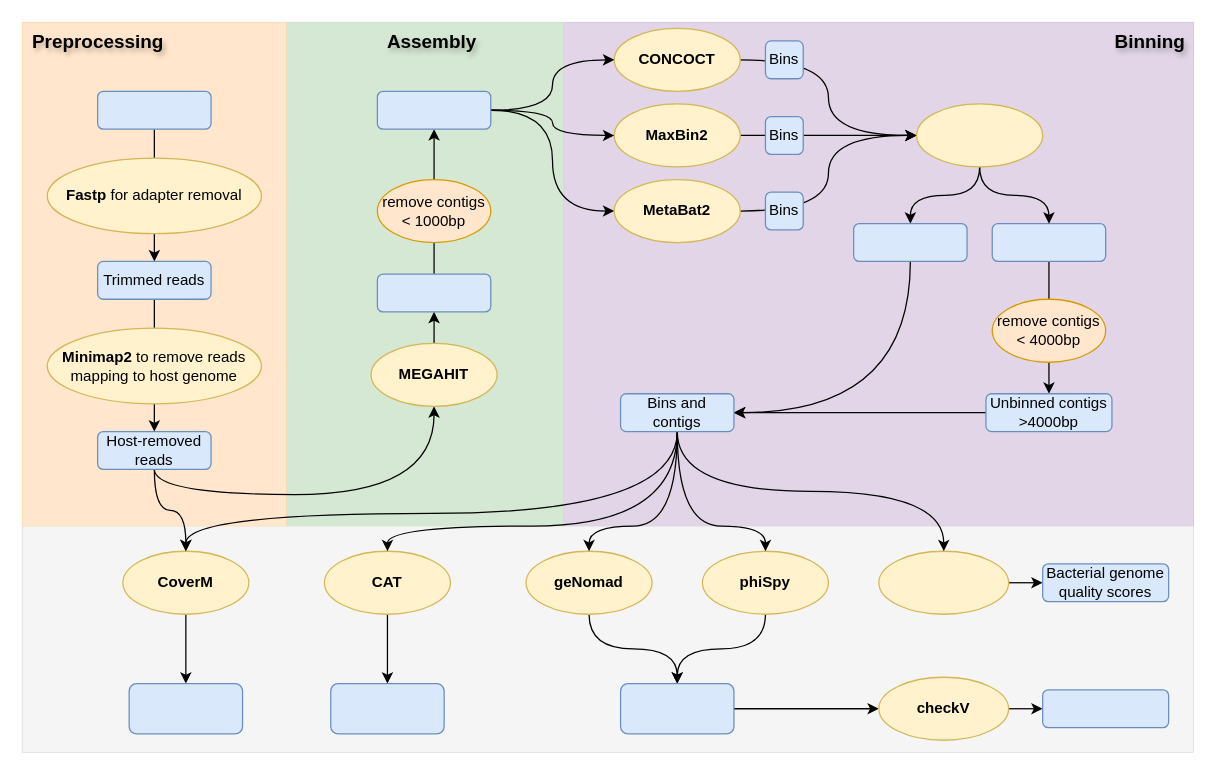
This 1215x774 diagram has some shape labels left out. The shapes that lost their labels are listed below. From the top down, each one's box as (x1, y1, x2, y2) in pixels, then its label:
(96, 90, 211, 129): Raw reads
(376, 90, 491, 129): Contigs >1000bp
(915, 103, 1043, 167): DAS Tool
(852, 222, 967, 261): Non-redundant set of bins
(991, 222, 1106, 261): Unbinned contigs
(376, 273, 491, 312): Contigs
(878, 550, 1009, 614): checkM
(128, 682, 243, 734): Read coverage
(329, 682, 444, 734): Taxonomy prediction
(619, 682, 734, 734): Predicted prophages
(1041, 689, 1169, 728): Prophage quality scores
